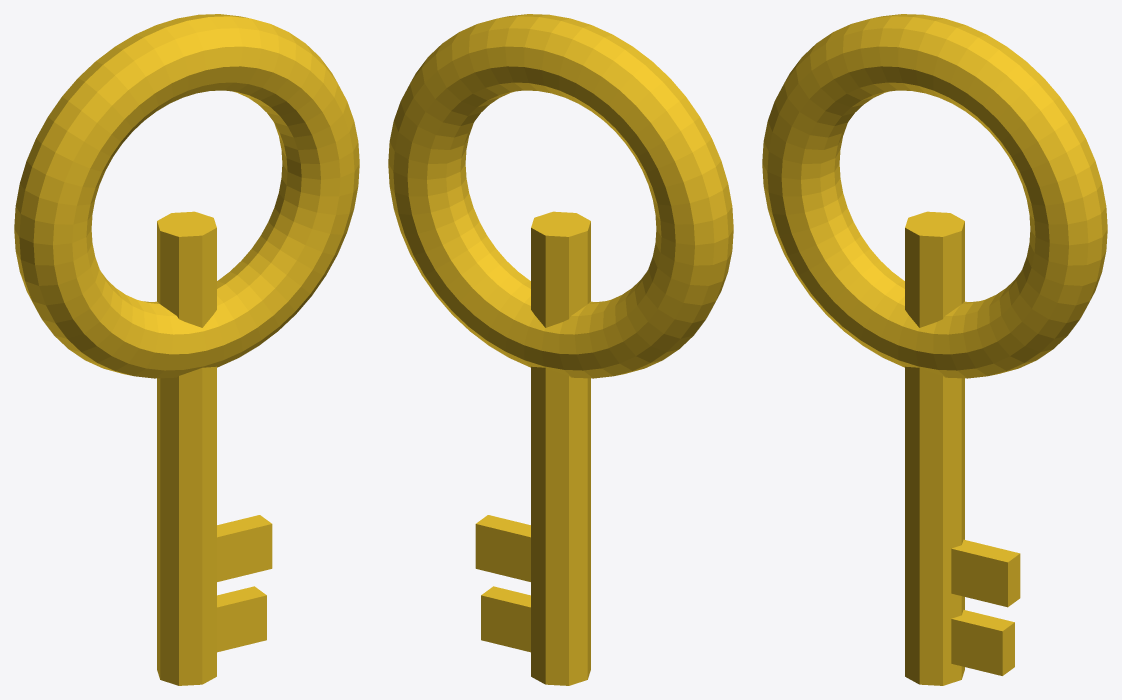
The model's file is key.obj.
The picture shows the model from 3 angles, left to right: view 1: azimuth 30°, elevation 25°; view 2: azimuth 150°, elevation 25°; view 3: azimuth 330°, elevation 25°; orthographic projection.
Visible parts, largest first — view 1: Torus, Cylinder, Cube, Cube.001; view 2: Torus, Cylinder, Cube, Cube.001; view 3: Torus, Cylinder, Cube, Cube.001.
Part boxes in pixels (x1,y1,x2,y2): Torus: (14,14,359,378); Cylinder: (157,211,216,685); Cube: (217,515,272,581); Cube.001: (217,586,266,652); Torus: (388,14,733,378); Cylinder: (531,211,590,685); Cube: (475,515,530,581); Cube.001: (481,586,530,652); Torus: (762,14,1107,378); Cylinder: (905,211,964,685); Cube: (951,539,1020,607); Cube.001: (951,610,1014,675).
Bounding box in the file's own units: 0.25 × 0.465 × 0.05.
